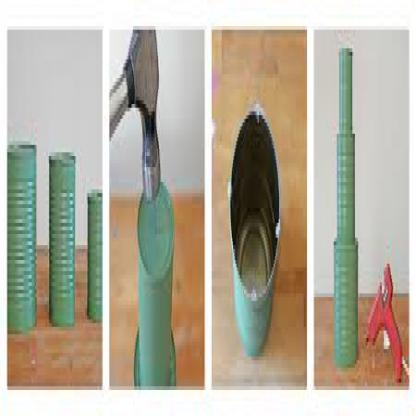METAL: (228, 104, 280, 353), (109, 22, 160, 197), (136, 174, 171, 382), (8, 138, 35, 323), (48, 149, 73, 323), (332, 230, 357, 364), (133, 323, 175, 386), (86, 186, 101, 323), (336, 130, 353, 234), (338, 45, 352, 130)
